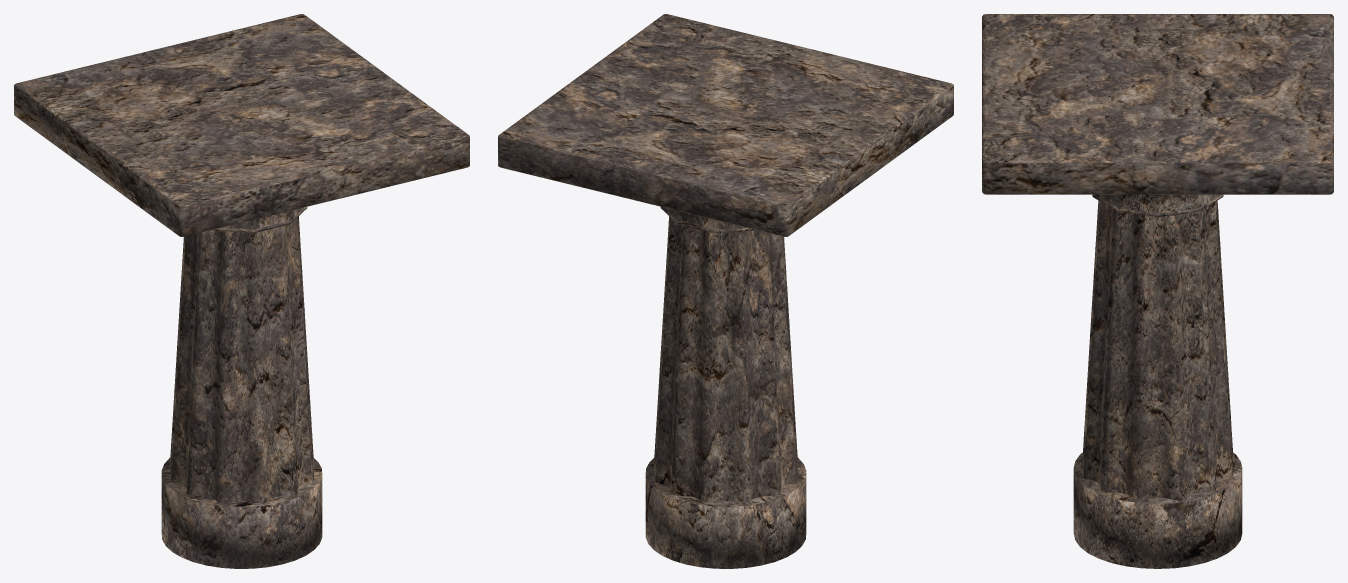
File: Sockel.obj
3 views of the same model, side by side, from view 1: azimuth 30°, elevation 25°; view 2: azimuth 150°, elevation 25°; view 3: azimuth 270°, elevation 25° (orthographic). The views are drawn at different scales.
Parts seen in each view (by area): view 1: Sockel_Cylinder; view 2: Sockel_Cylinder; view 3: Sockel_Cylinder.
Boxes of the visible parts, x1,y1,x2,y2 form: Sockel_Cylinder: (14, 14, 469, 568); Sockel_Cylinder: (498, 14, 953, 568); Sockel_Cylinder: (982, 14, 1333, 568).
Bounding box in the file's own units: 0.7036 × 0.9837 × 0.7036.
Materials: 1 (1 with a texture image).
